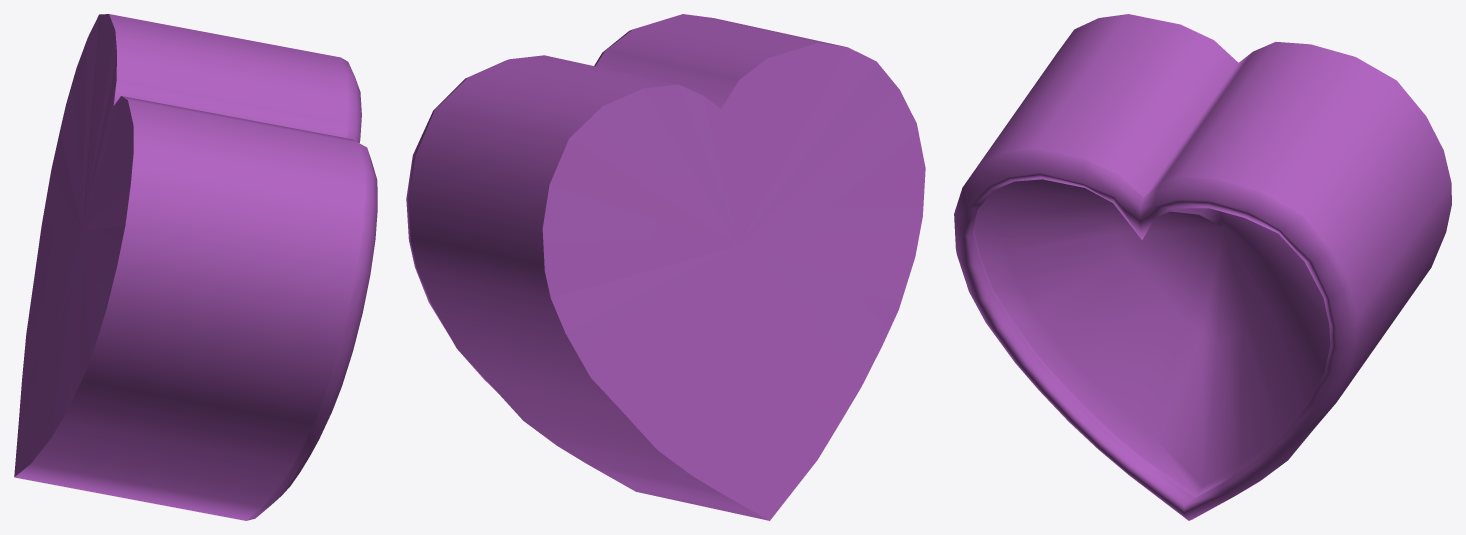
Rendered from TR4_8shapes_heart_Classic_Metal.001 3.glb.
3 views of the same model, side by side, from view 1: azimuth 30°, elevation 25°; view 2: azimuth 150°, elevation 25°; view 3: azimuth 270°, elevation 25° (orthographic). The views are drawn at different scales.
Visible parts, largest first — view 1: TR4_8shapes_heart_Classic_Metal.001; view 2: TR4_8shapes_heart_Classic_Metal.001; view 3: TR4_8shapes_heart_Classic_Metal.001.
Boxes of the visible parts, box(x1,y1,x2,y2) form: TR4_8shapes_heart_Classic_Metal.001: box(14, 14, 377, 520); TR4_8shapes_heart_Classic_Metal.001: box(406, 14, 925, 520); TR4_8shapes_heart_Classic_Metal.001: box(954, 14, 1451, 520).
Bounding box in the file's own units: 0.5023 × 0.5958 × 0.6071.
